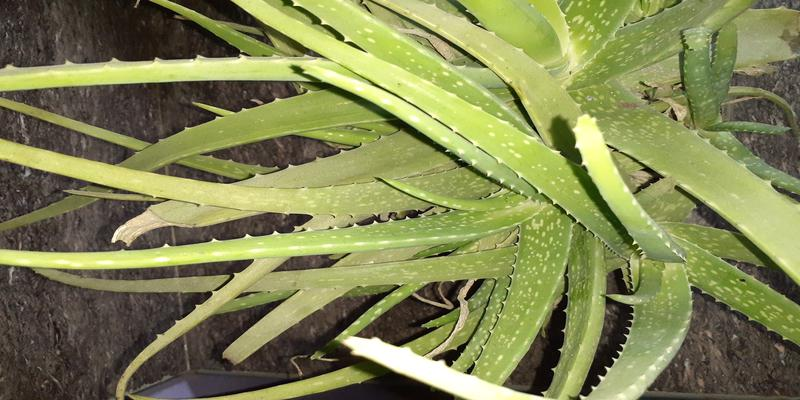Aloevera: (200, 6, 783, 353)
